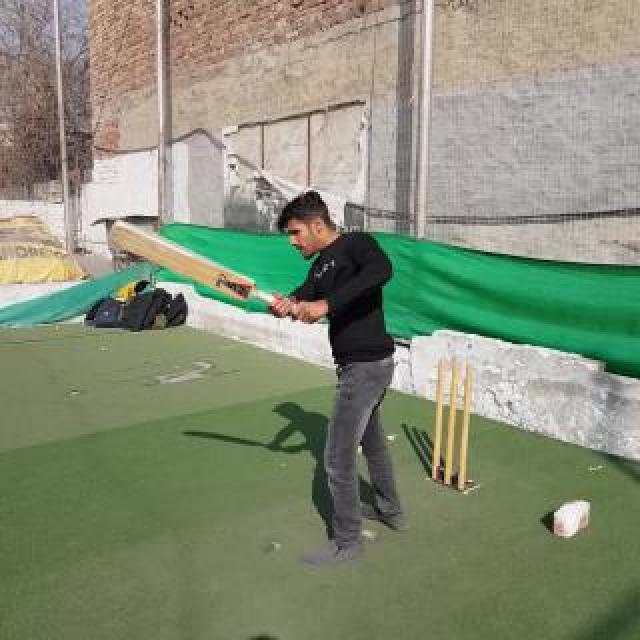bat: (112, 220, 322, 324)
